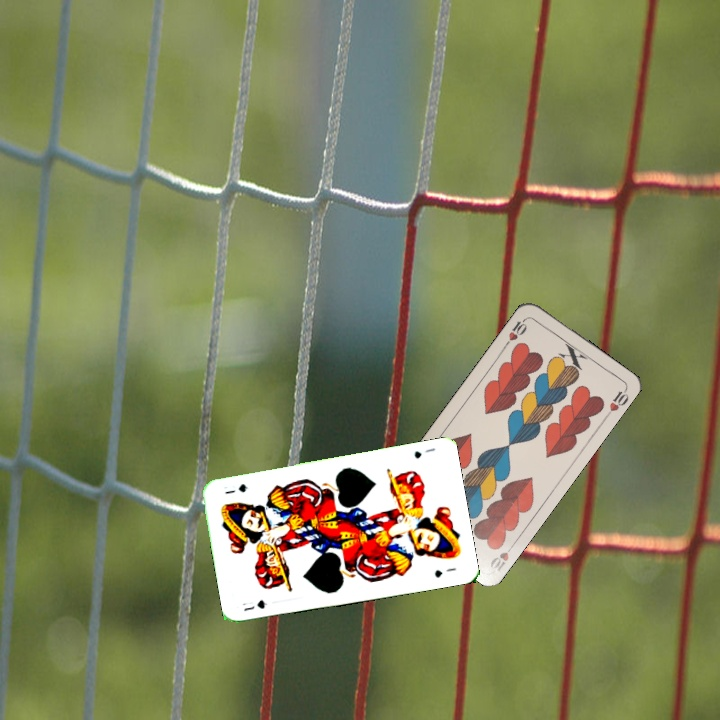GU: (238, 596, 270, 614), (410, 444, 438, 461)
H10: (486, 538, 518, 574), (501, 313, 530, 348)
